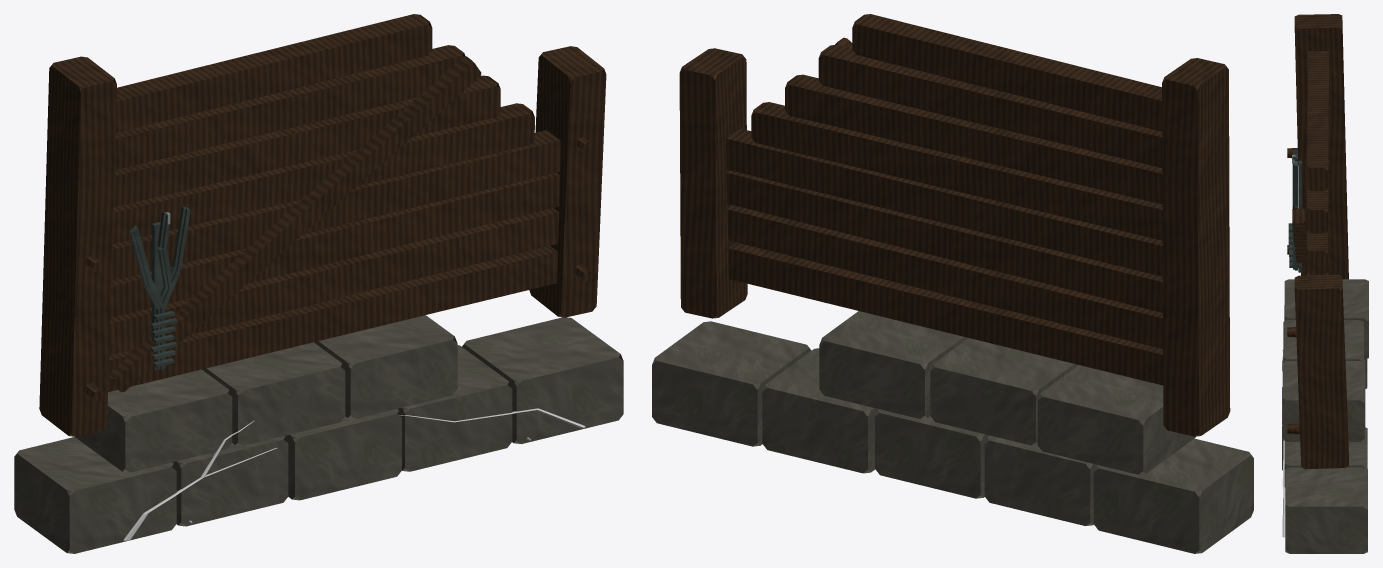
File: cataclysm_rootvault_wall-lod1.gltf
The picture shows the model from 3 angles, left to right: view 1: azimuth 30°, elevation 25°; view 2: azimuth 150°, elevation 25°; view 3: azimuth 270°, elevation 25°; orthographic projection. The views are drawn at different scales.
Parts seen in each view (by area): view 1: cataclysm_rootvault_wall LOD1 cataclysm_rootvault_wall, cataclysm_rootvault_wall LOD1 cataclysm_rootvault_wall roots; view 2: cataclysm_rootvault_wall LOD1 cataclysm_rootvault_wall; view 3: cataclysm_rootvault_wall LOD1 cataclysm_rootvault_wall, cataclysm_rootvault_wall LOD1 cataclysm_rootvault_wall roots.
Boxes of the visible parts, x1=… form: cataclysm_rootvault_wall LOD1 cataclysm_rootvault_wall: x1=14, y1=14, x2=623, y2=553; cataclysm_rootvault_wall LOD1 cataclysm_rootvault_wall roots: x1=123, y1=408, x2=585, y2=540; cataclysm_rootvault_wall LOD1 cataclysm_rootvault_wall: x1=652, y1=14, x2=1253, y2=553; cataclysm_rootvault_wall LOD1 cataclysm_rootvault_wall: x1=1282, y1=14, x2=1368, y2=553; cataclysm_rootvault_wall LOD1 cataclysm_rootvault_wall roots: x1=1282, y1=350, x2=1285, y2=537.
Bounding box in the file's own units: 2.92 × 2.31 × 0.529.
